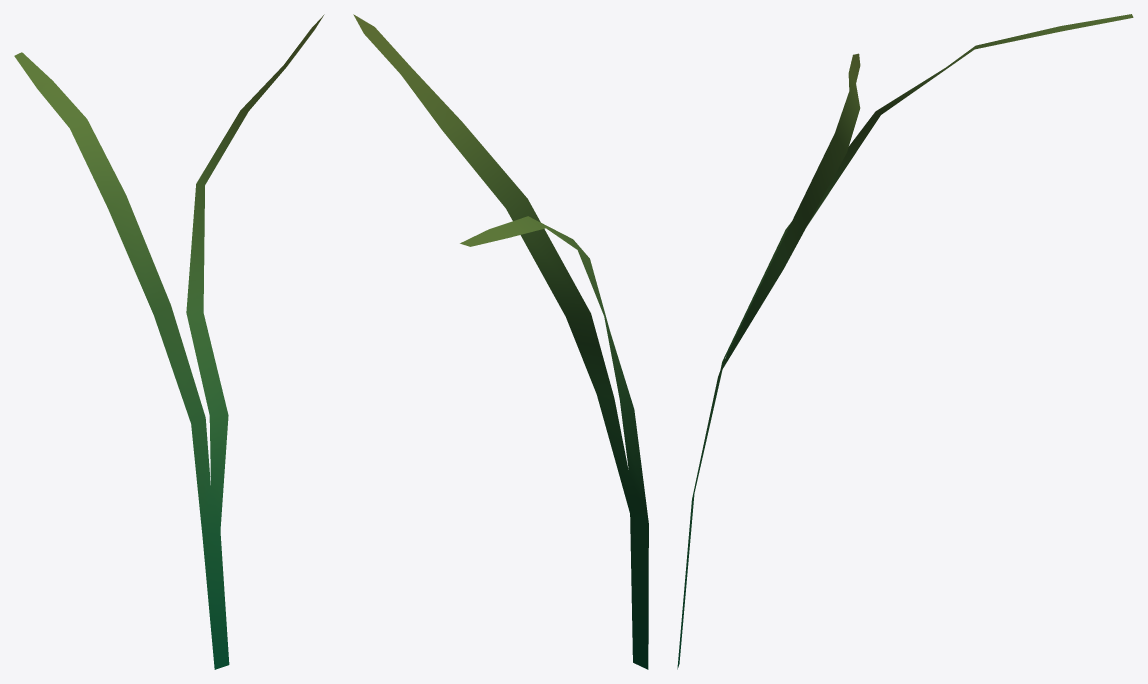
Rendered from grass_medium_01_12.glb.
3 renders of one model, left to right at view 1: azimuth 30°, elevation 25°; view 2: azimuth 150°, elevation 25°; view 3: azimuth 270°, elevation 25°, orthographic. The views are drawn at different scales.
Visible parts, largest first — view 1: grass_medium_01_tiny_b_LOD0; view 2: grass_medium_01_tiny_b_LOD0; view 3: grass_medium_01_tiny_b_LOD0.
Boxes of the visible parts, x1,y1,x2,y2 form: grass_medium_01_tiny_b_LOD0: (14, 14, 324, 669); grass_medium_01_tiny_b_LOD0: (353, 14, 648, 669); grass_medium_01_tiny_b_LOD0: (677, 14, 1133, 669).
Bounding box in the file's own units: 0.0236 × 0.0602 × 0.0344.
